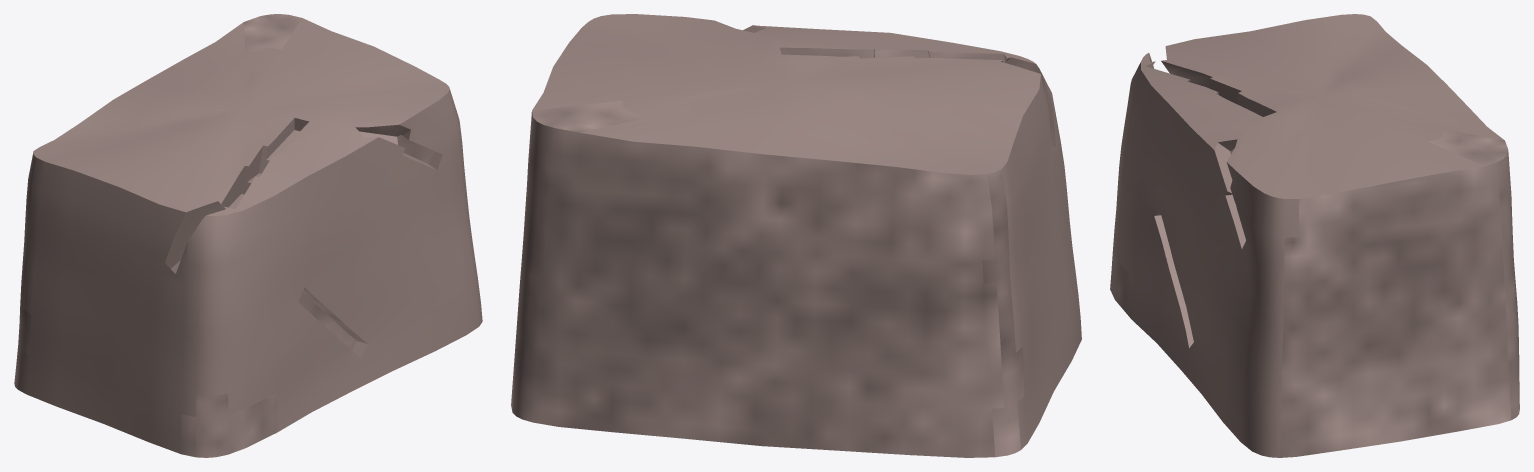
Rendered from VerHenge03.glb.
The picture shows the model from 3 angles, left to right: view 1: azimuth 30°, elevation 25°; view 2: azimuth 150°, elevation 25°; view 3: azimuth 270°, elevation 25°; orthographic projection. The views are drawn at different scales.
Visible parts, largest first — view 1: VerHenge03; view 2: VerHenge03; view 3: VerHenge03.
Boxes of the visible parts, x1,y1,x2,y2 form: VerHenge03: (14, 14, 482, 457); VerHenge03: (511, 14, 1081, 457); VerHenge03: (1110, 14, 1519, 457).
Size of the model in its own units: 2.11 by 1.16 by 1.7.
Materials: 2 (1 with a texture image).
